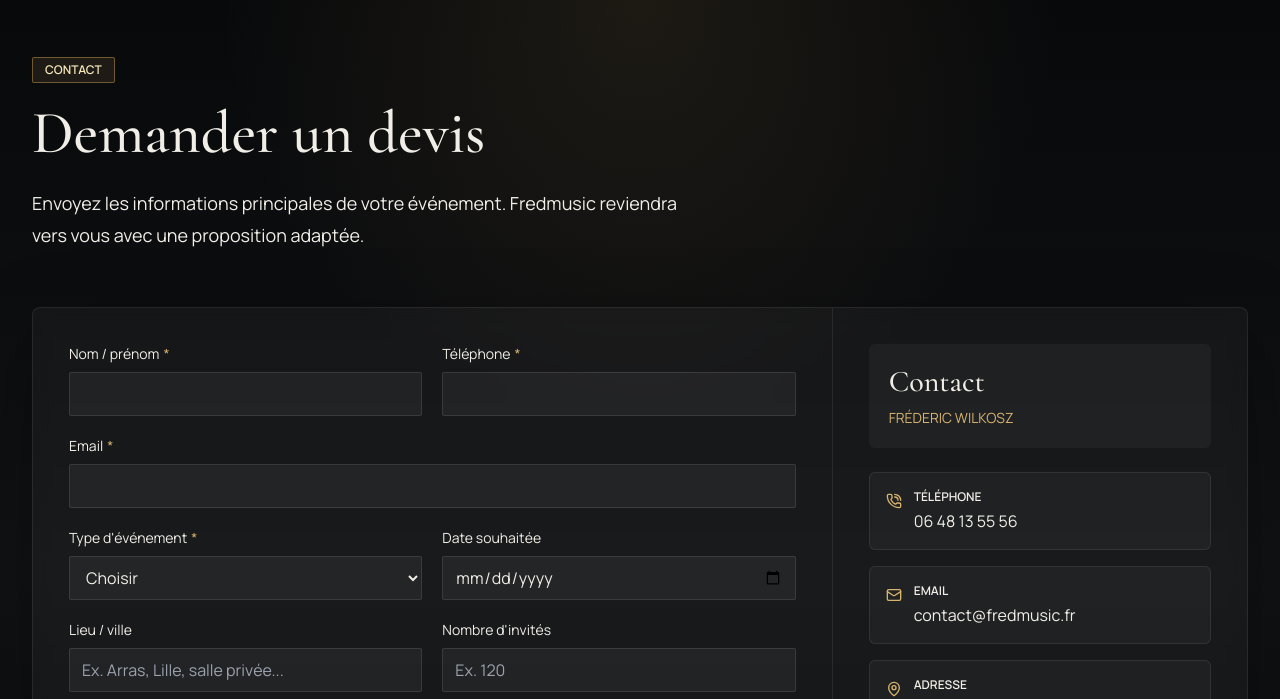
Test case: ContactPage › does not show success when the quote request fails
Type "Alice Martin" into the field labelled "Nom / prénom*" at [246, 394], box [69,372,422,416]
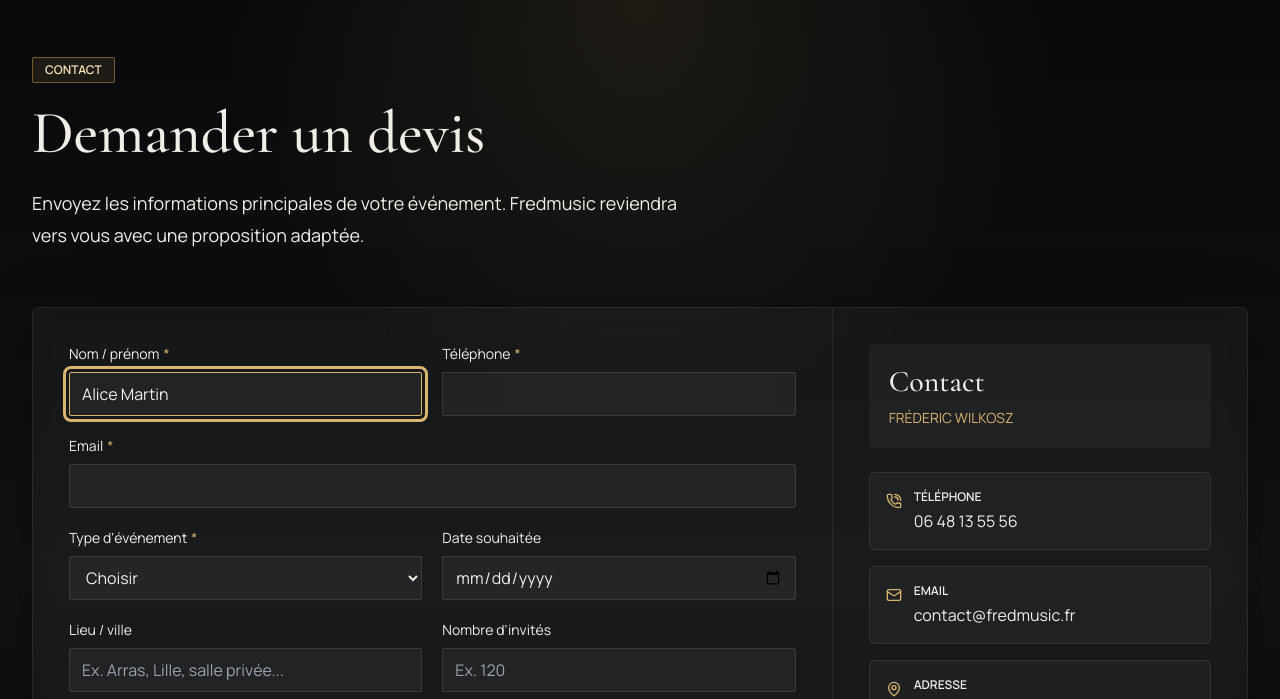
Type "0612345678" into the field labelled "Téléphone*" at [619, 394], box [442,372,796,416]
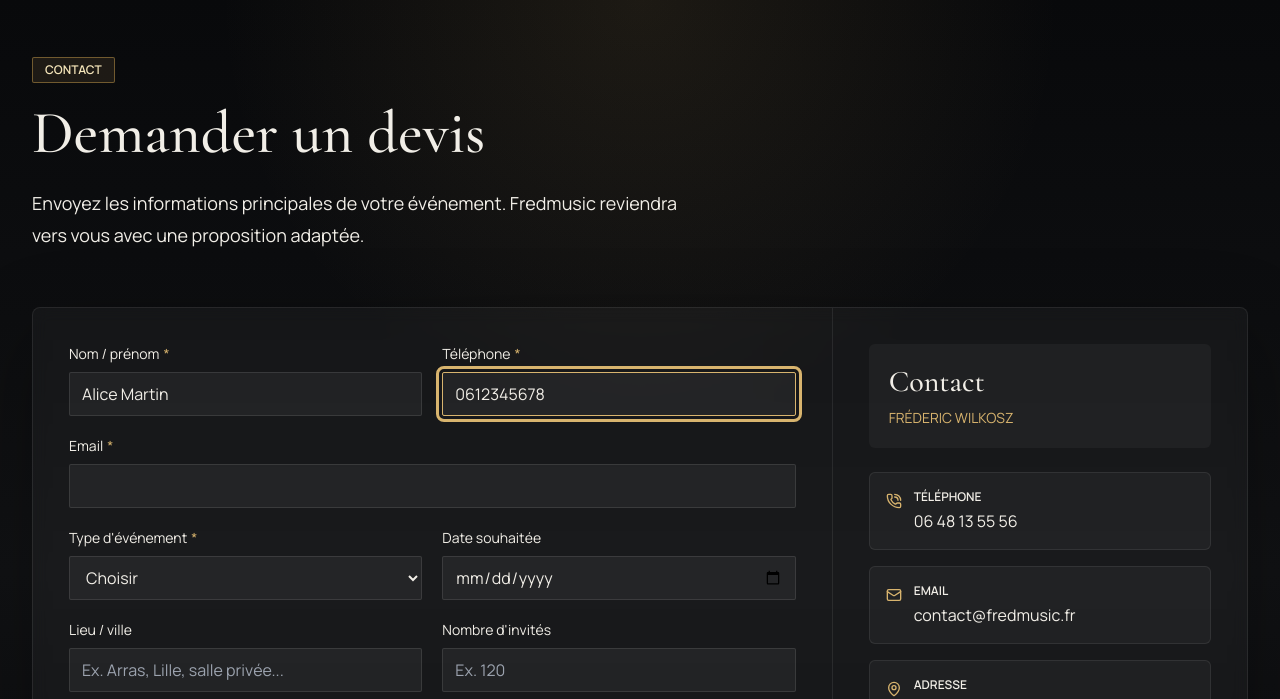
Type "alice@example.com" into the field labelled "Email*" at [432, 486], box [69,464,796,508]
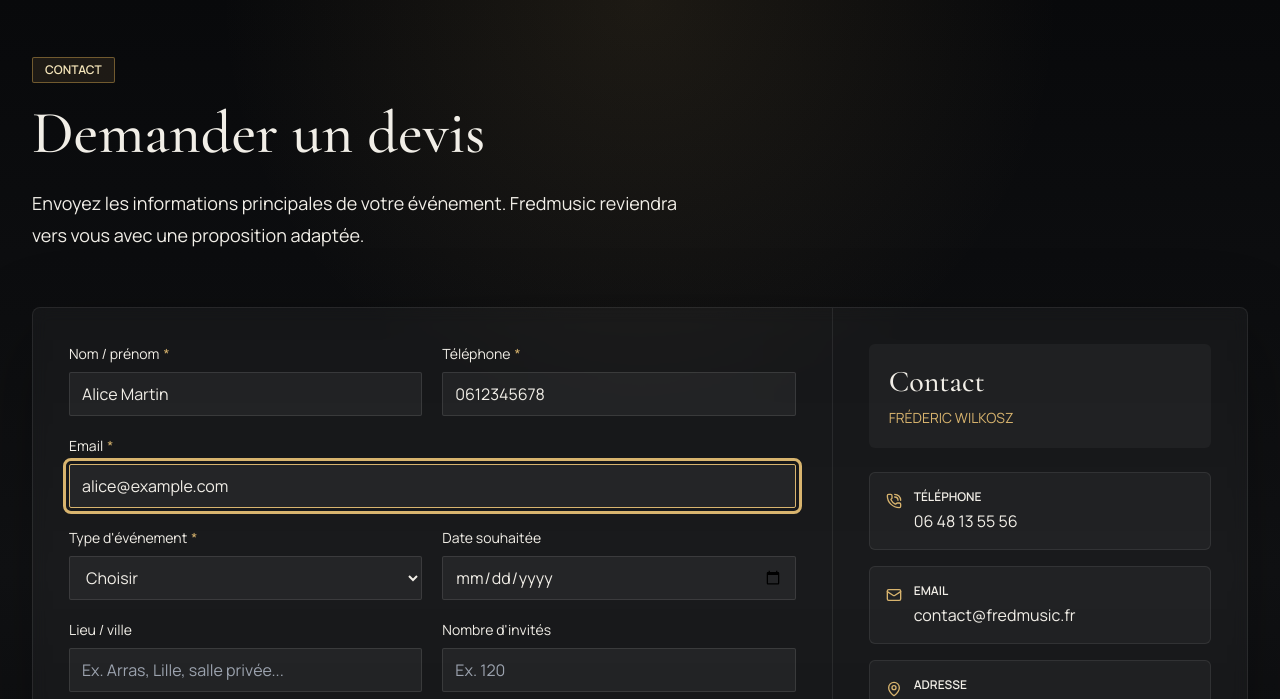
Select "Mariage" in the dropdown labelled "Type d'événement*" at [246, 578], box [69,556,422,600]
(page scrolled)
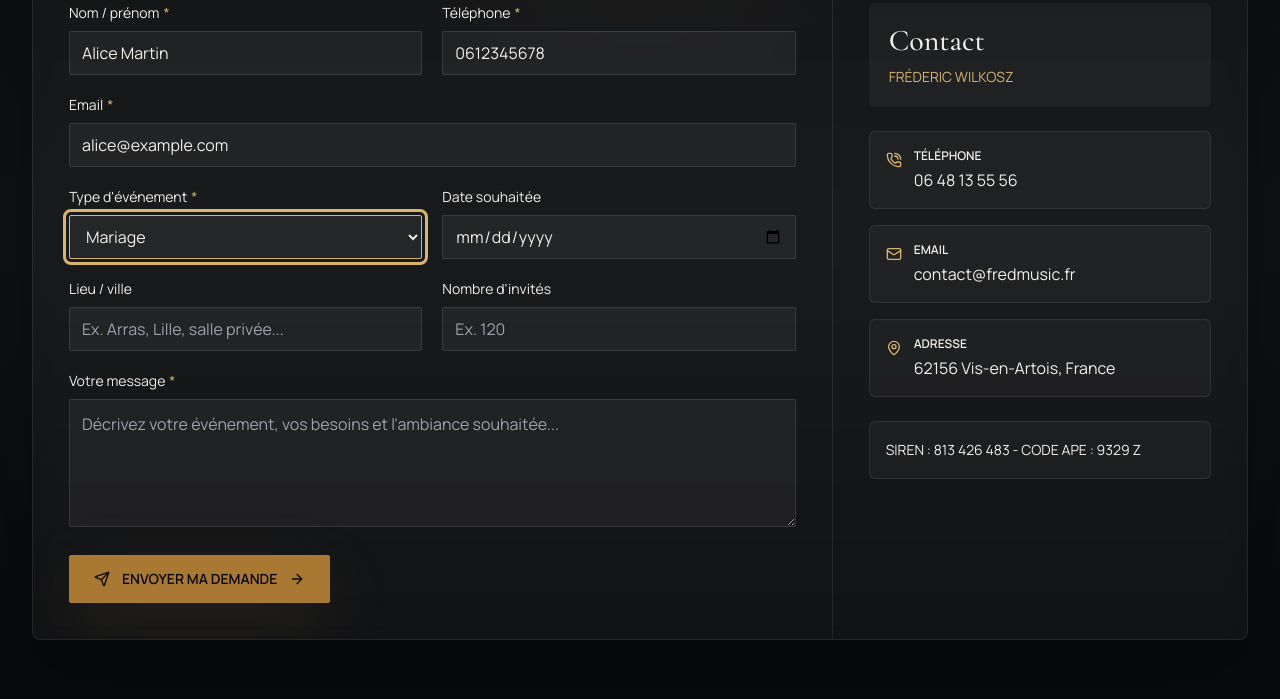
Type "Nous préparons notre mariage." into the text box labelled "Votre message*" at [432, 463], box [69,399,796,527]
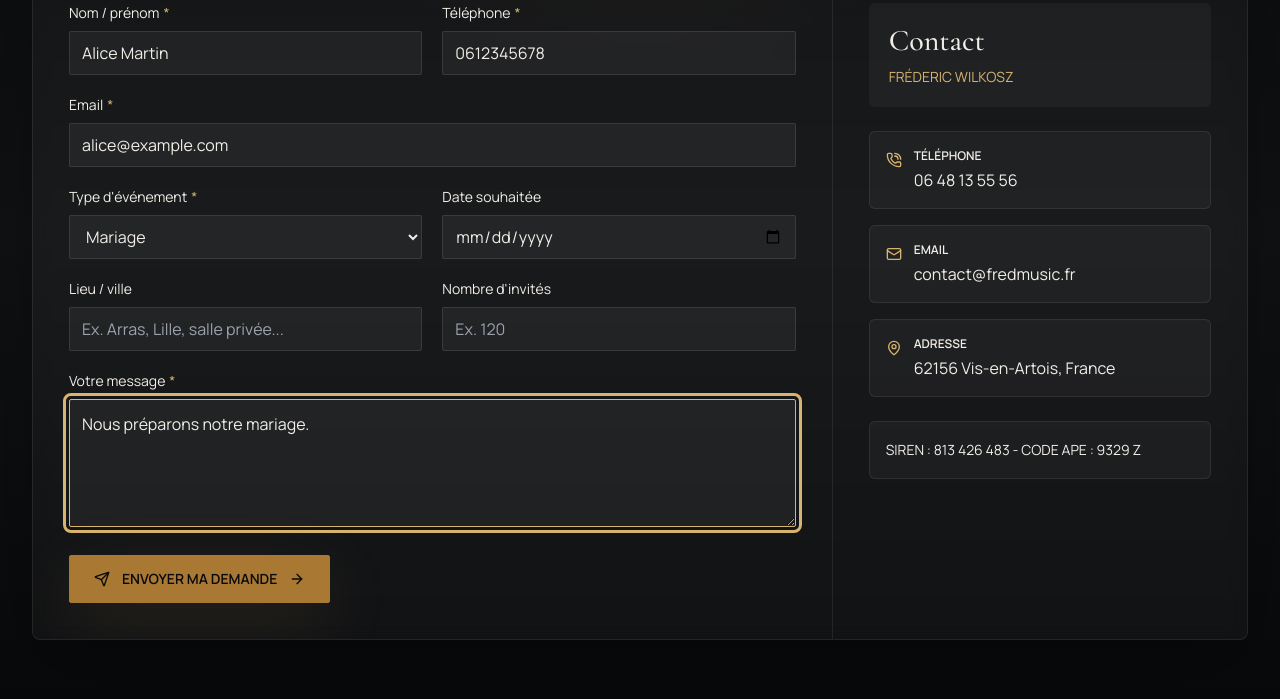
Click the button "Envoyer ma demande" at [200, 579], box [69,555,330,603]
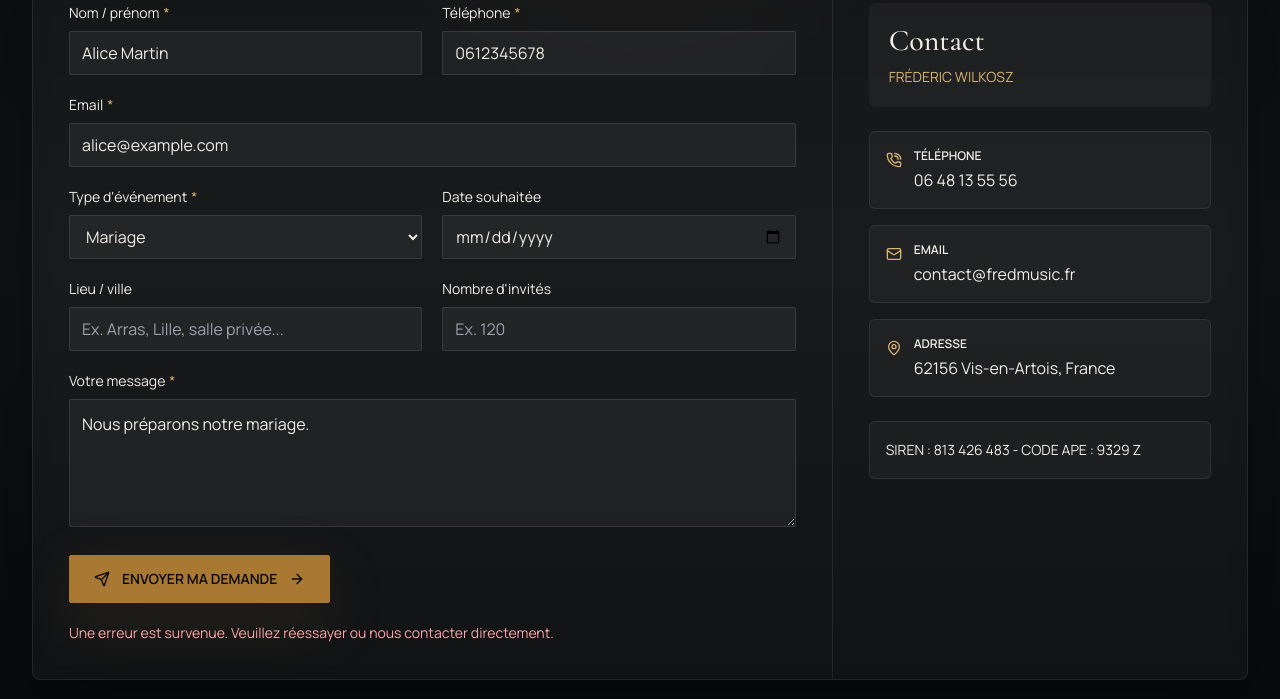
Result: the message shows "Une erreur est survenue" at [69,623,554,642]
